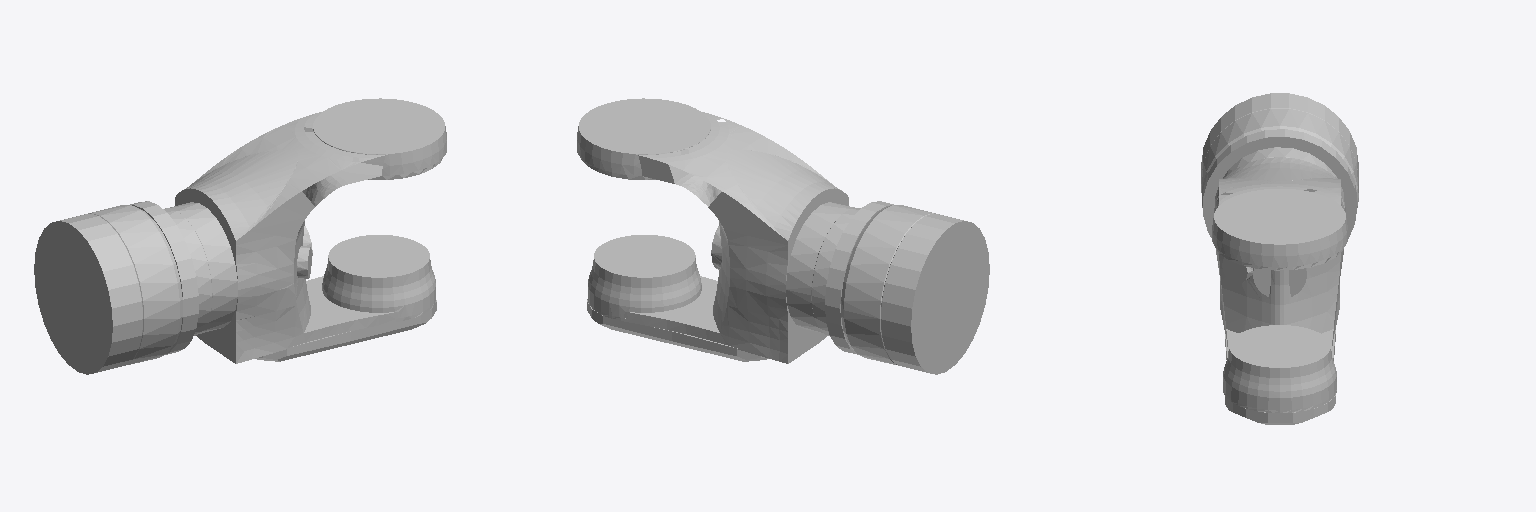
File: kuka_arm_link_4_collisions_mesh.obj
3 renders of one model, left to right at view 1: azimuth 30°, elevation 25°; view 2: azimuth 150°, elevation 25°; view 3: azimuth 270°, elevation 25°, orthographic.
Bounding box in the file's own units: 0.647 × 0.3372 × 0.242.